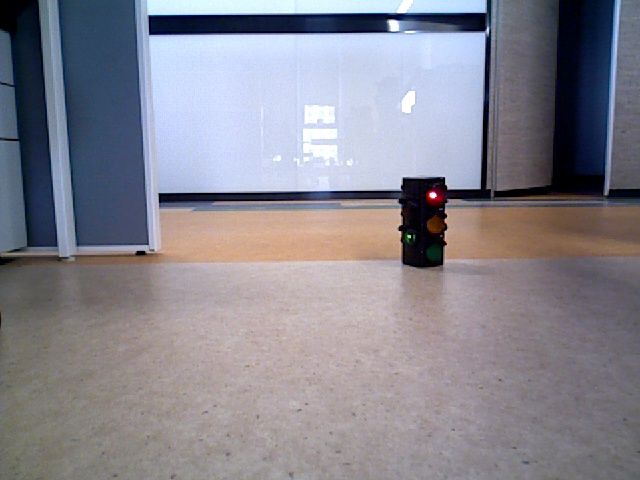red: (399, 177, 444, 263)
